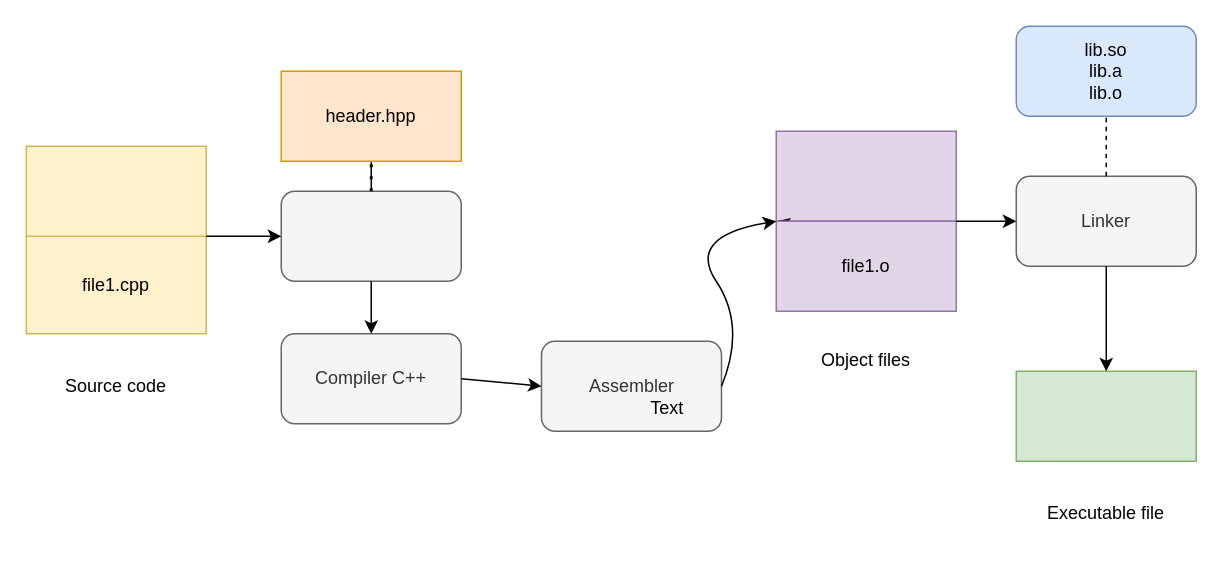
This 1223x578 diagram has some shape labels left out. Here are the shapes that lost their labels. From the top down, the box of each, then its label:
(25, 145, 206, 236): main.cpp
(775, 130, 956, 221): main.o
(280, 190, 461, 281): Preprocessor C++
(1015, 370, 1196, 461): a.out
